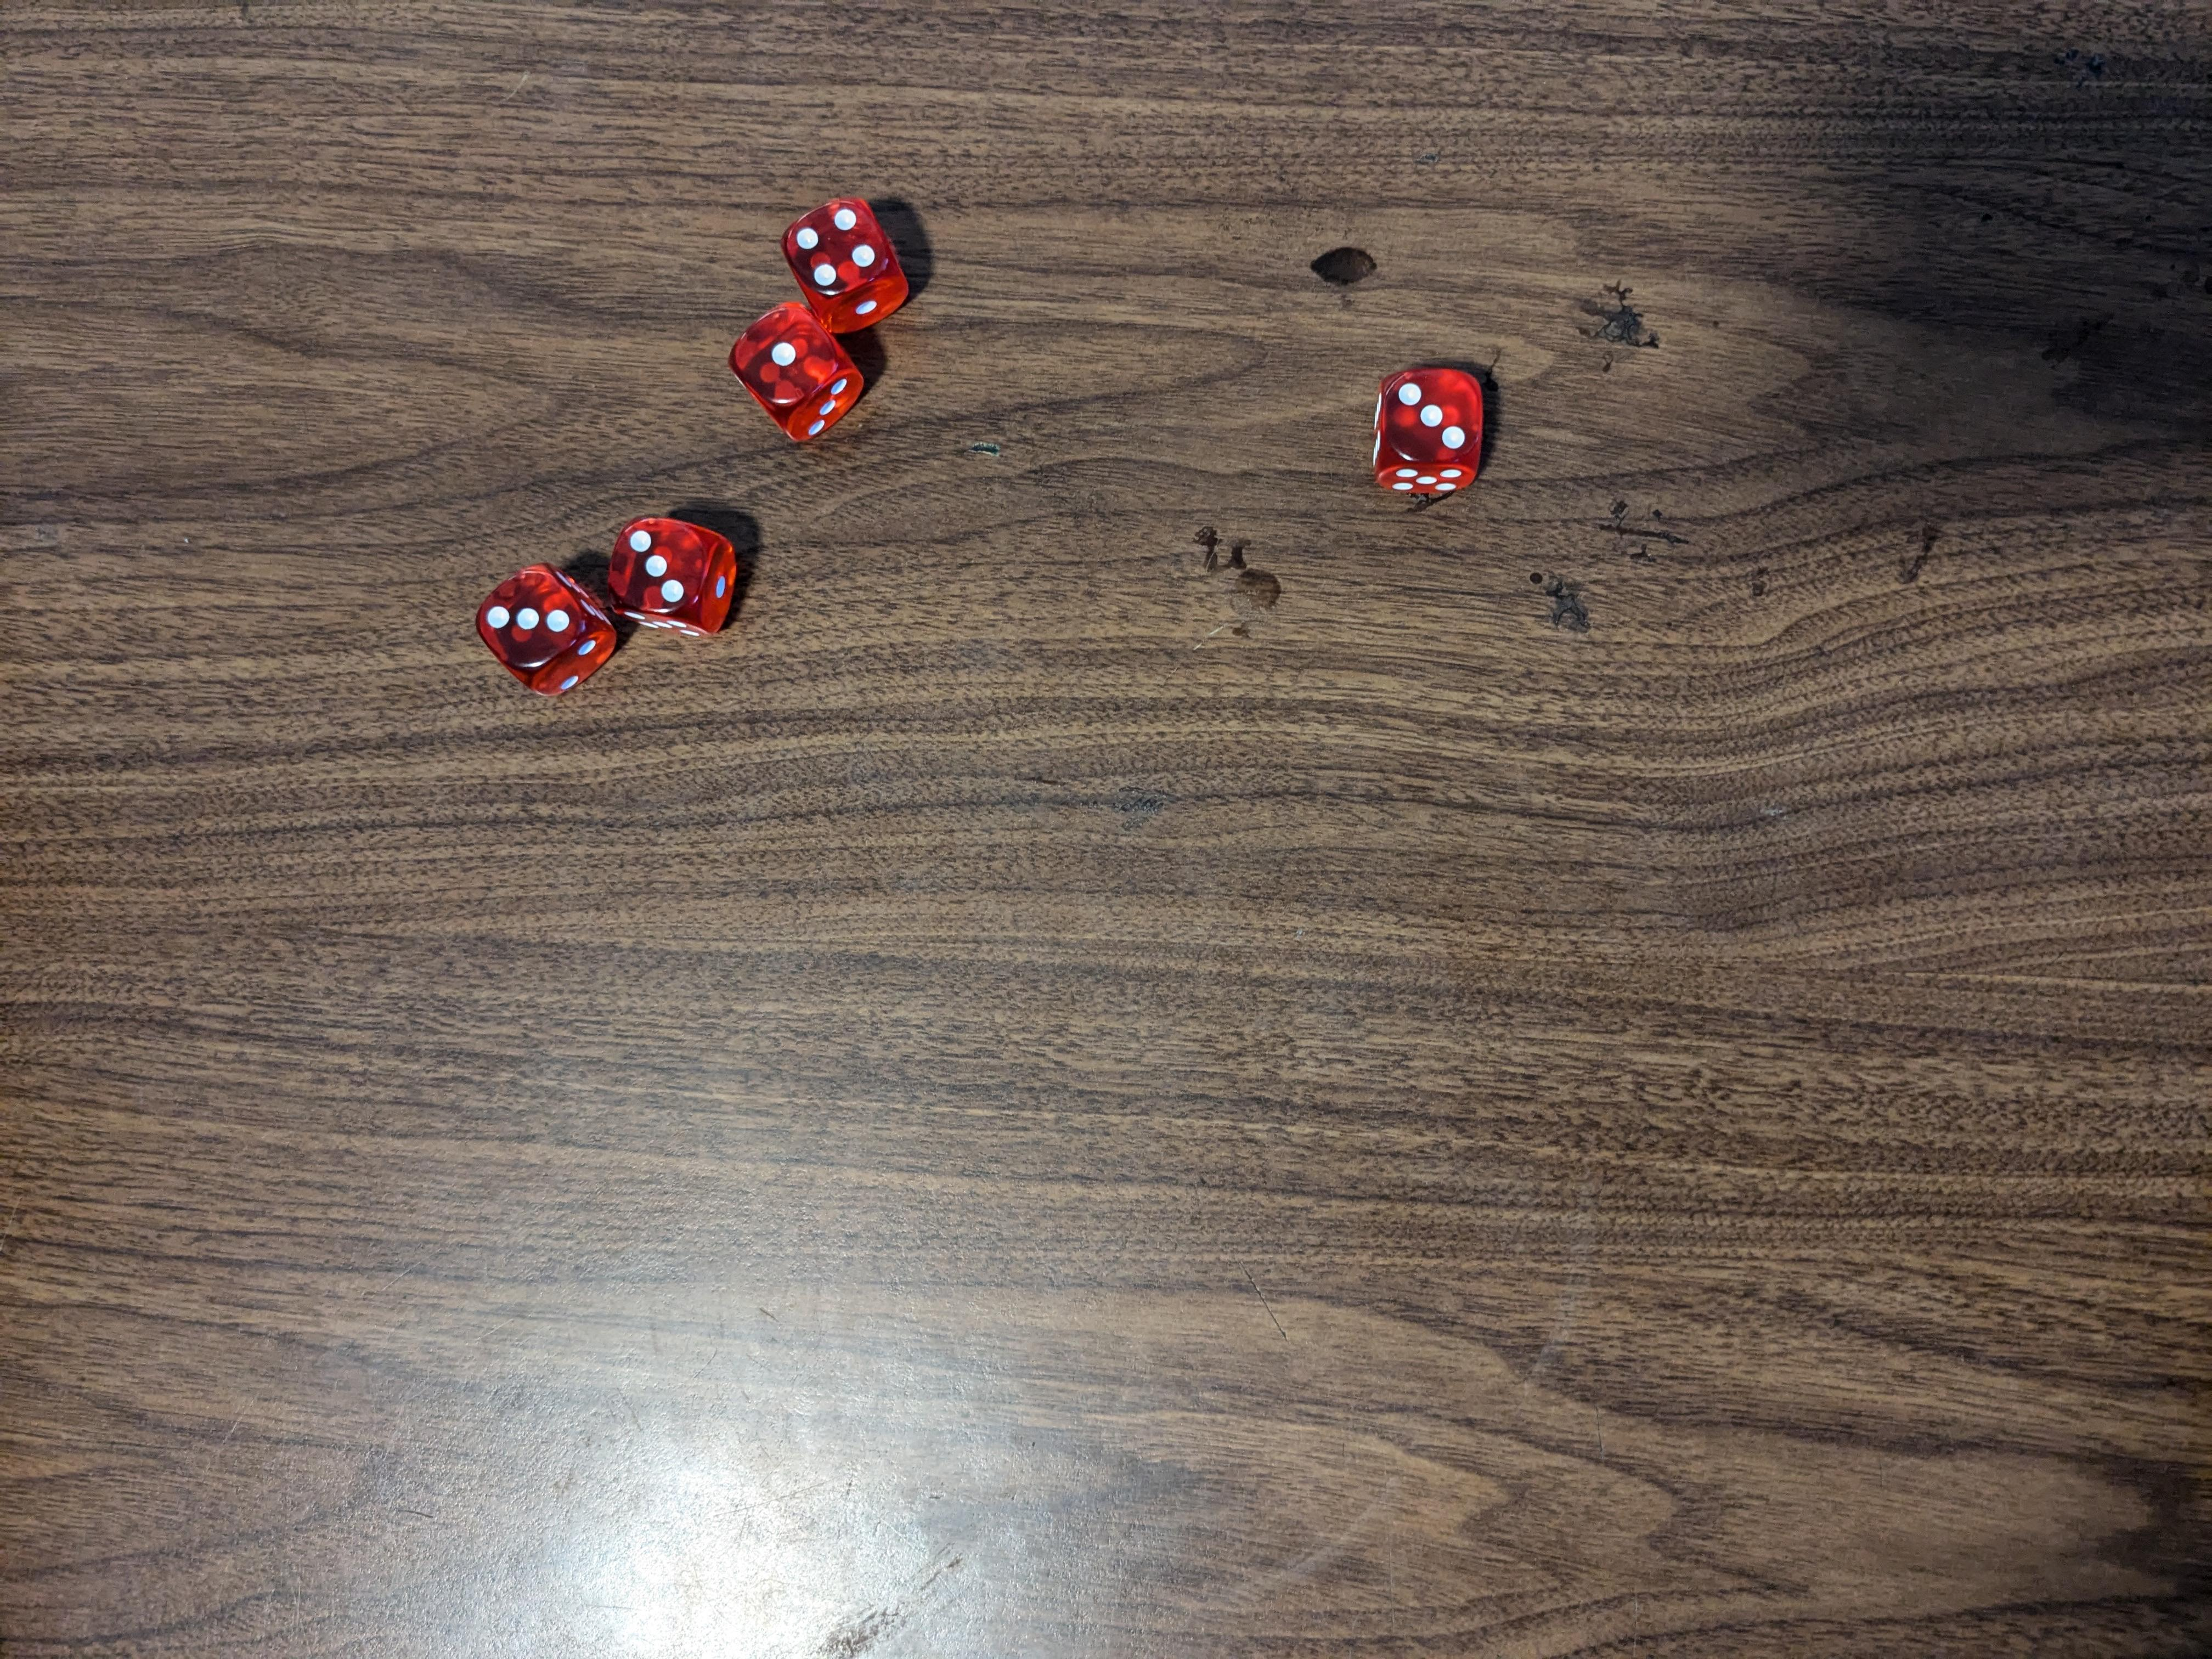four: (782, 200, 916, 331)
one: (732, 305, 866, 443)
three: (474, 563, 625, 701), (601, 521, 745, 641), (1376, 368, 1489, 493)
